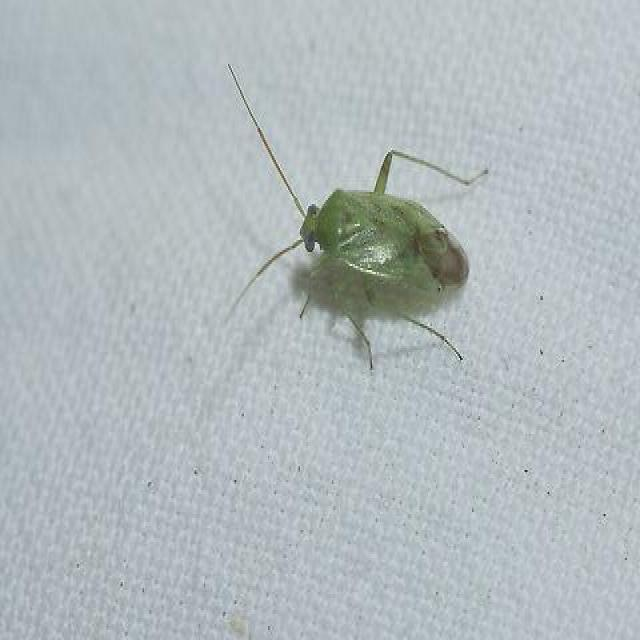Miridae-Adult-: (216, 56, 489, 366)
